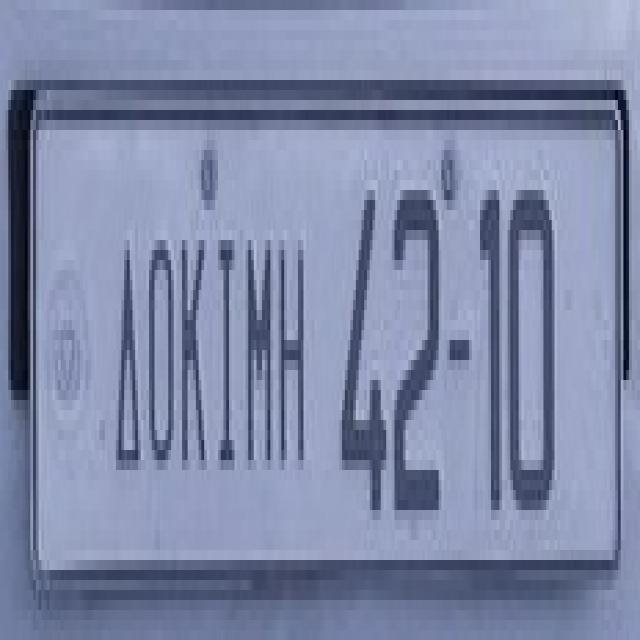licenseplate: (33, 77, 635, 590)
